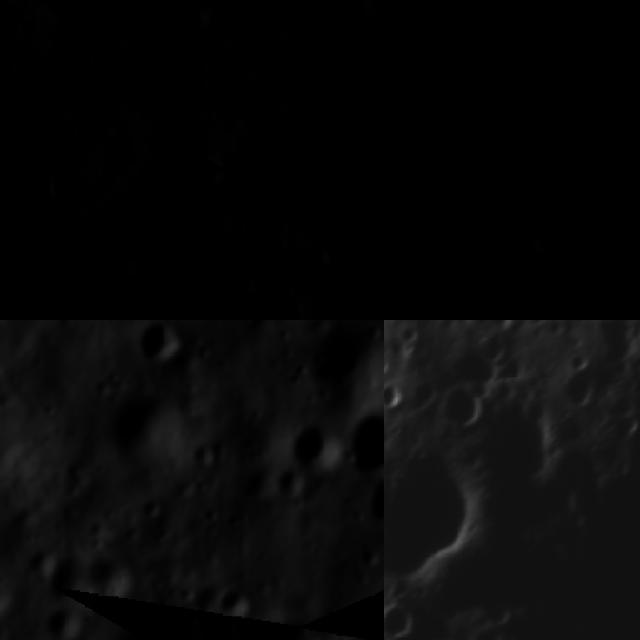crater: (384, 444, 489, 576), (107, 386, 185, 476), (292, 111, 374, 193), (306, 320, 384, 397), (151, 33, 223, 111), (415, 61, 493, 121), (34, 541, 96, 598), (287, 417, 342, 479), (341, 401, 384, 480), (78, 548, 138, 604), (40, 153, 97, 205), (132, 320, 192, 368), (38, 195, 92, 243), (582, 138, 636, 186), (0, 0, 101, 25), (64, 238, 112, 289), (256, 613, 345, 640), (431, 120, 486, 163), (42, 595, 88, 640), (584, 72, 638, 110), (214, 579, 256, 625), (353, 259, 384, 320), (592, 107, 638, 147), (446, 377, 489, 418), (524, 220, 570, 256), (316, 208, 356, 248), (384, 597, 422, 637), (318, 243, 356, 280), (362, 471, 384, 530), (568, 366, 598, 406), (532, 78, 563, 112), (479, 598, 522, 620), (492, 147, 519, 180), (558, 294, 590, 320), (531, 39, 558, 66), (594, 305, 640, 320), (384, 378, 406, 409), (612, 455, 638, 479), (619, 407, 640, 433), (462, 629, 509, 640), (399, 320, 423, 340), (384, 348, 396, 372), (488, 320, 520, 328), (384, 0, 398, 15)
